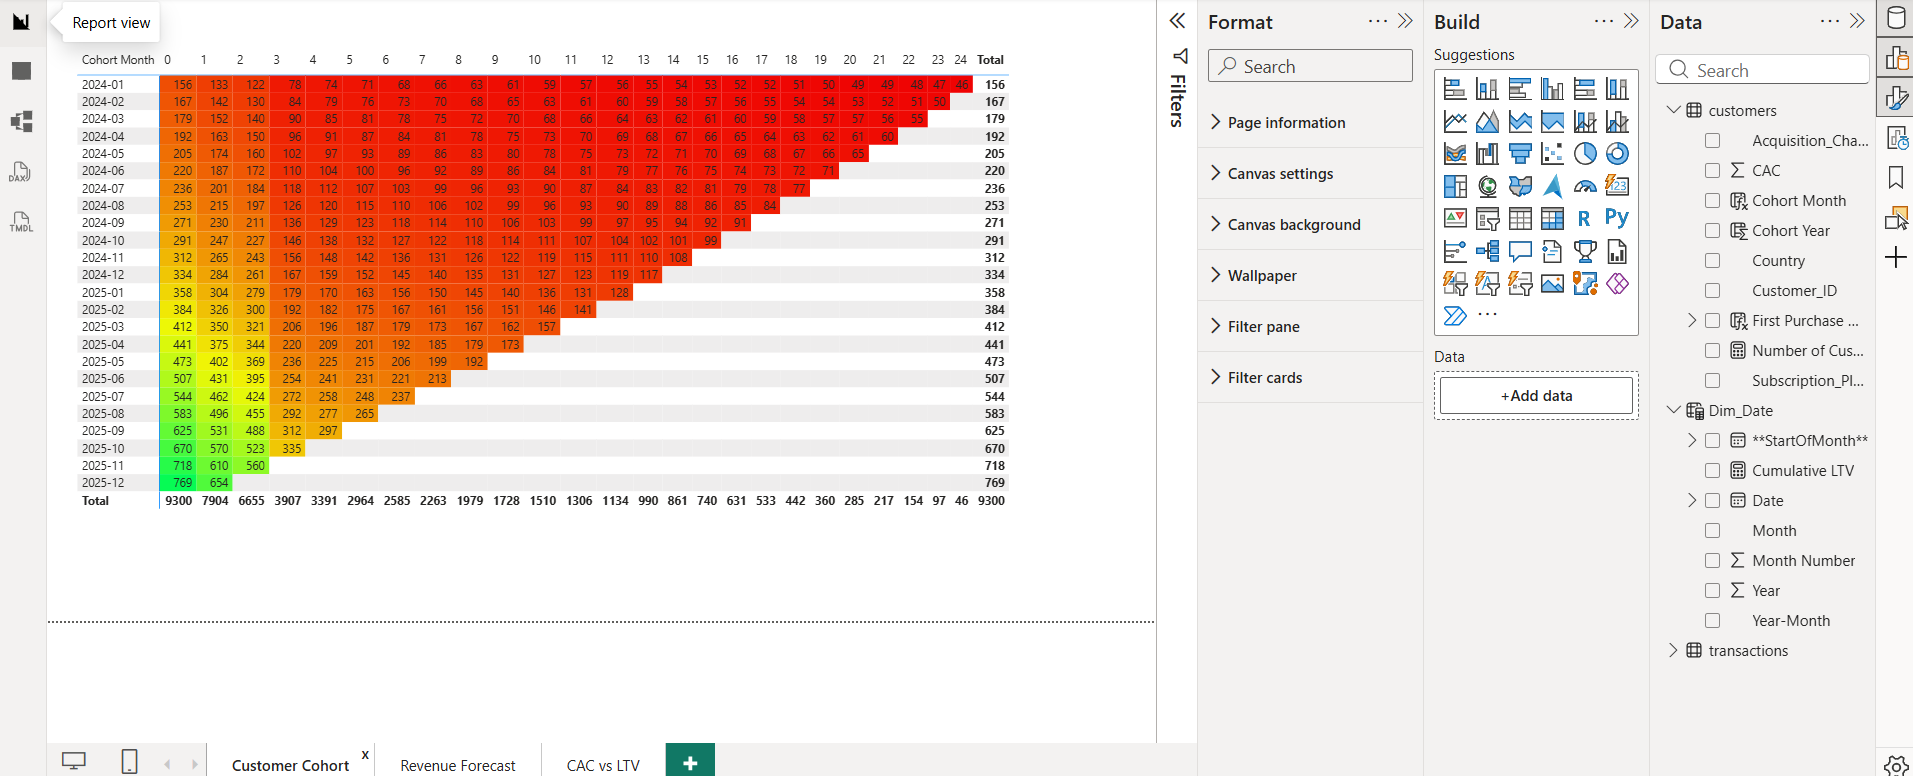

The dashboard page shown, as its layout file describes it:
{"tool":"powerbi","page":{"name":"Customer Cohort","canvas":[1280,720],"ordinal":0},"visuals":[{"type":"pivotTable","fields":{"Rows":["customers.Cohort Month"],"Columns":["transactions.Months Since First Purchase"],"Values":["transactions.Active Customers"]},"box":[29.9,56.9,1112.2,566],"z":0}]}

Visuals, with their boxes on the page's 1280x720 design canvas (x1, y1, x2, y2). These are canvas units, not pixel positions in the 1913x776 screenshot, which may show the page scaled, cropped or inside an application window:
pivotTable - customers.Cohort Month x transactions.Months Since First Purchase: (30,57,1142,623)
